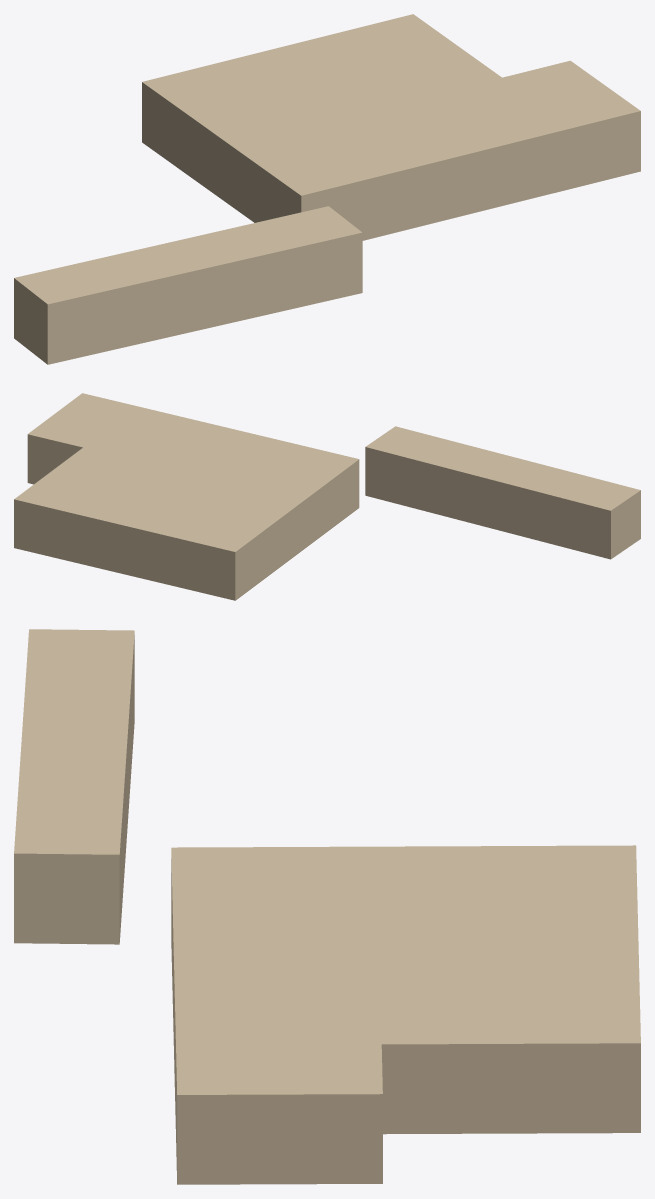
File: 6_6-estimated-coarse.glb
3 renders of one model, top to bottom at view 1: azimuth 30°, elevation 25°; view 2: azimuth 150°, elevation 25°; view 3: azimuth 270°, elevation 25°, orthographic. The views are drawn at different scales.
Size of the model in its own units: 134 by 12 by 76.
